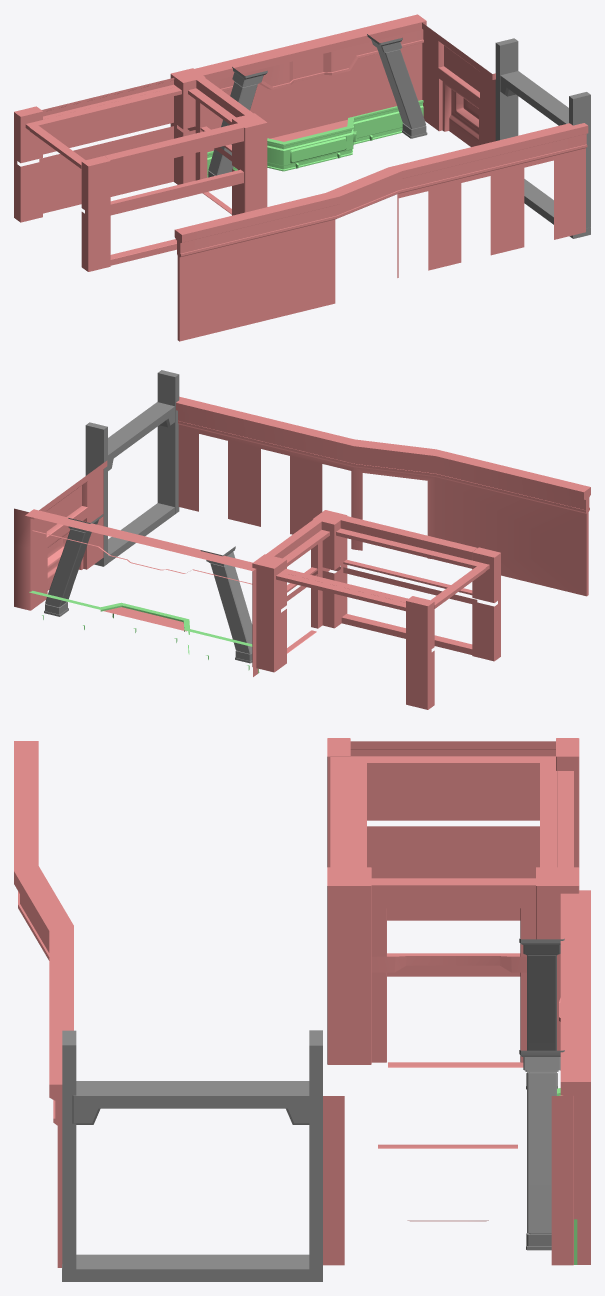
The model's file is S_Envi_Umeda_wall_04e.gltf.
3 renders of one model, top to bottom at view 1: azimuth 30°, elevation 25°; view 2: azimuth 150°, elevation 25°; view 3: azimuth 270°, elevation 25°, orthographic. The views are drawn at different scales.
Visible parts, largest first — view 1: S_Envi_Umeda_wall_04e; view 2: S_Envi_Umeda_wall_04e; view 3: S_Envi_Umeda_wall_04e.
Boxes of the visible parts, box(x1,y1,x2,y2) form: S_Envi_Umeda_wall_04e: box(14, 14, 590, 341); S_Envi_Umeda_wall_04e: box(14, 370, 590, 709); S_Envi_Umeda_wall_04e: box(14, 738, 590, 1281).
Bounding box in the file's own units: 22.16 × 6.98 × 15.41.
